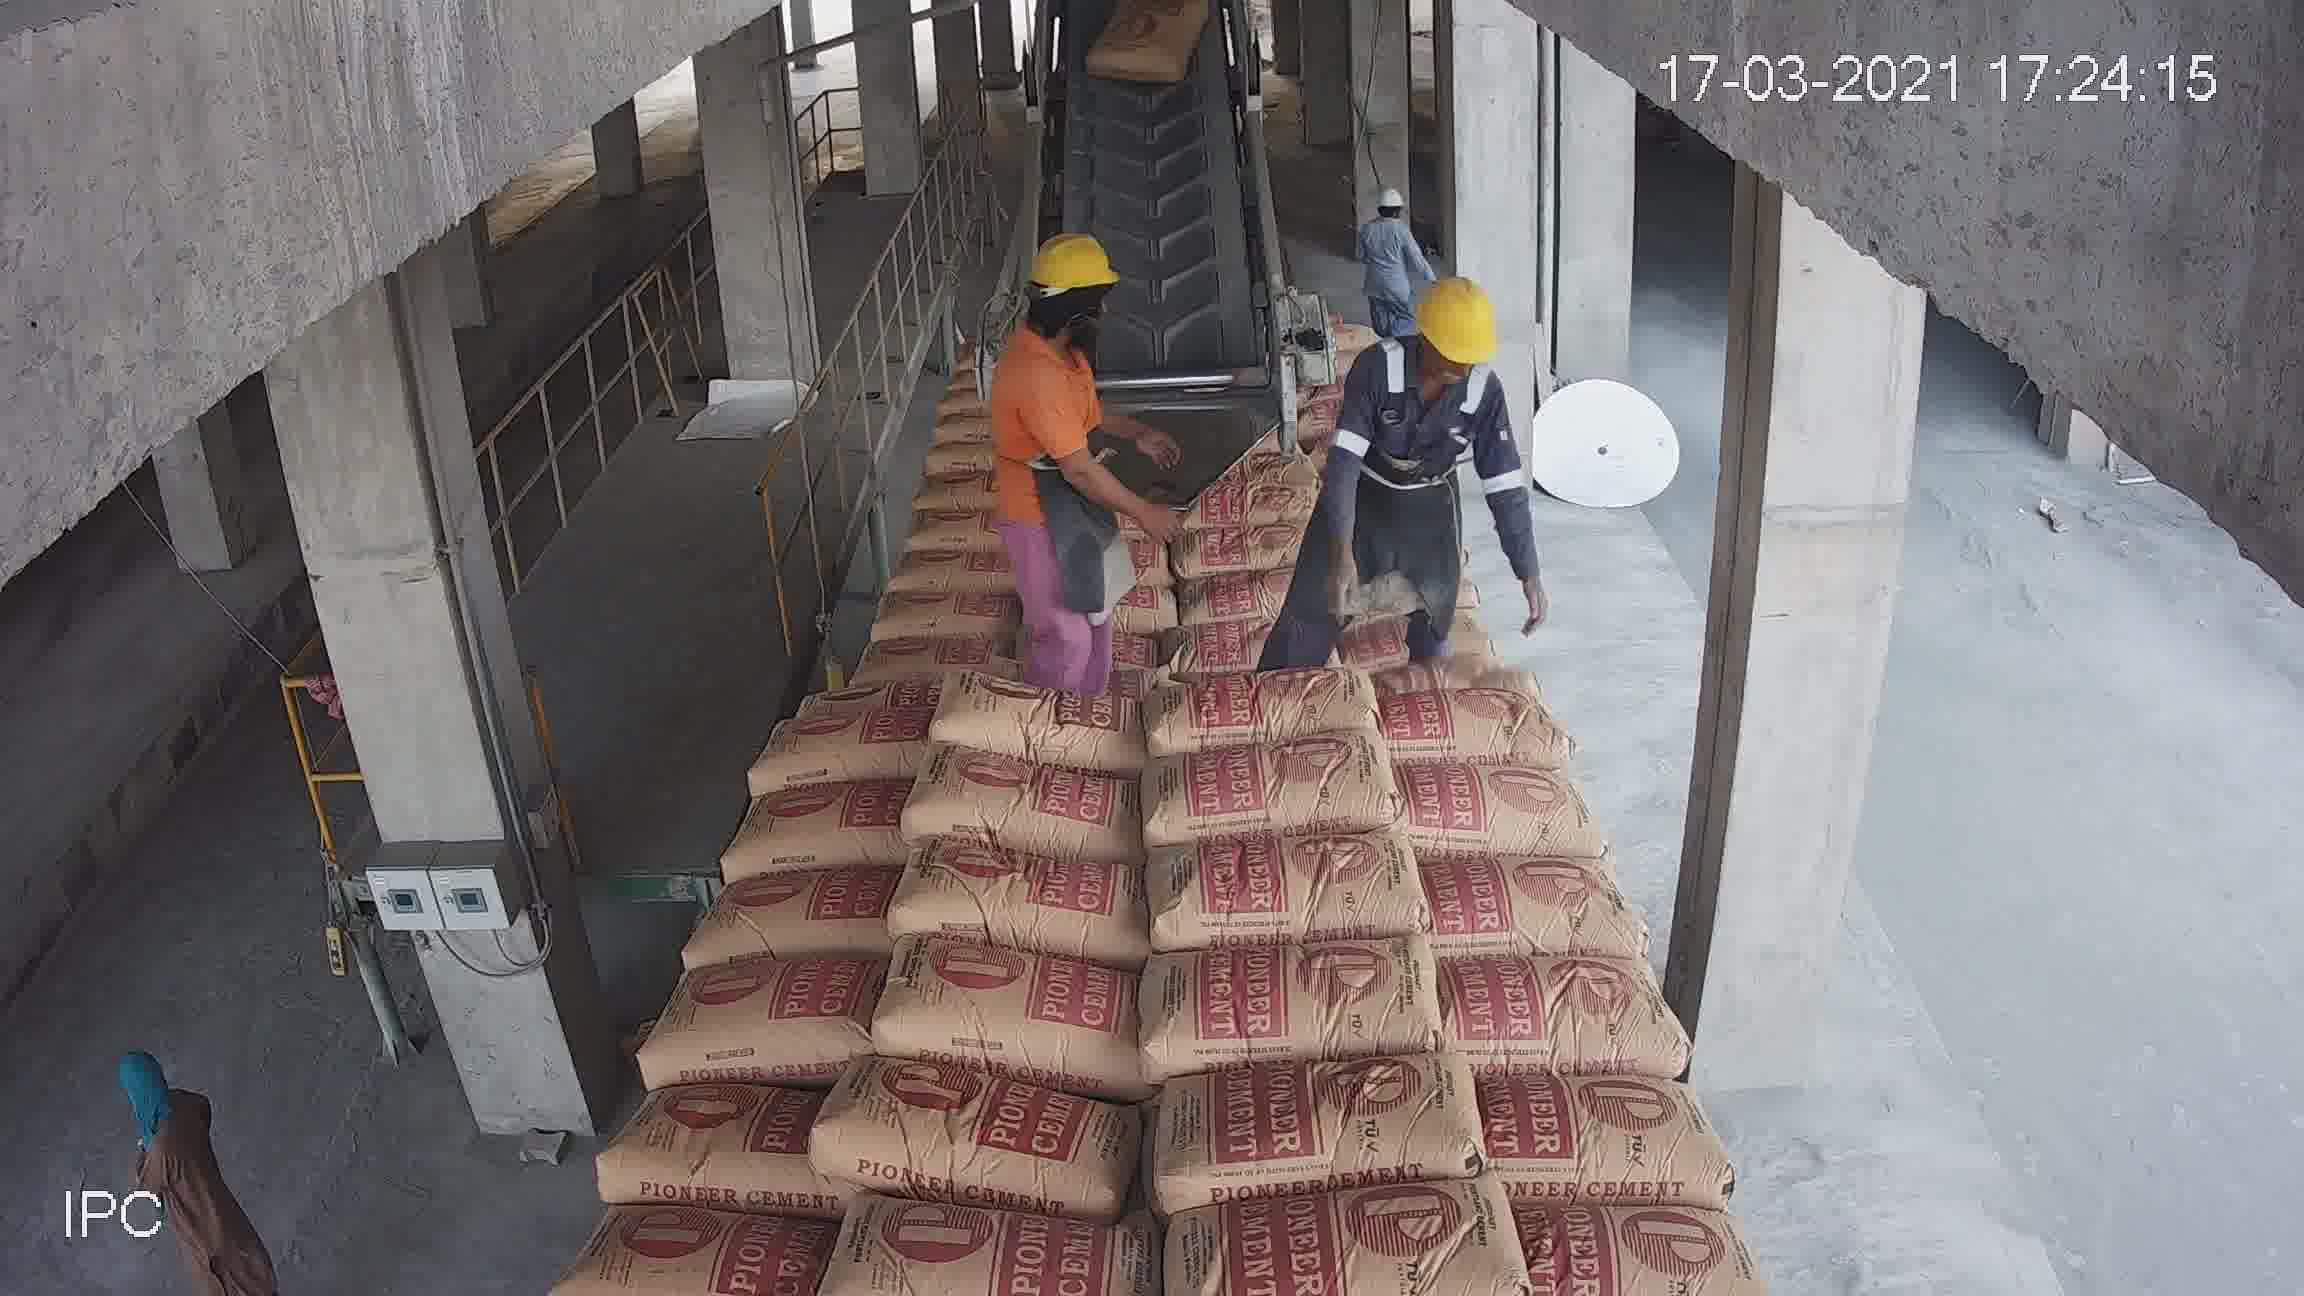bag: (1116, 250, 1188, 358), (1095, 13, 1188, 90)
bag_h: (820, 1052, 1174, 1204), (1111, 910, 1461, 1063), (1120, 1163, 1510, 1296), (1119, 1063, 1470, 1184), (861, 956, 1139, 1093), (1457, 1060, 1715, 1203), (1154, 831, 1442, 954), (755, 1203, 1135, 1296), (902, 753, 1173, 869), (1143, 731, 1404, 837), (1505, 1196, 1772, 1296), (877, 842, 1166, 934), (654, 961, 870, 1081), (574, 1078, 813, 1185), (1438, 847, 1647, 968), (1468, 953, 1719, 1048), (557, 1201, 824, 1290), (930, 668, 1161, 766), (1388, 745, 1600, 845), (1136, 658, 1396, 737), (949, 609, 1185, 688), (1378, 674, 1556, 775), (744, 711, 942, 793), (1165, 589, 1389, 658), (731, 794, 904, 880), (1136, 532, 1343, 601), (1377, 609, 1549, 692), (685, 883, 875, 953), (783, 641, 937, 718), (964, 521, 1166, 579), (779, 590, 957, 654), (812, 524, 970, 593), (1146, 449, 1321, 510), (1128, 505, 1355, 548), (964, 555, 1157, 601), (986, 470, 1146, 524), (1361, 565, 1506, 622), (1313, 516, 1502, 554), (839, 484, 973, 535), (1309, 407, 1424, 464), (1328, 475, 1495, 513), (1291, 383, 1424, 430), (1298, 362, 1427, 400), (923, 399, 1014, 443), (911, 426, 987, 478), (1298, 353, 1415, 381), (1302, 324, 1388, 354)
belt: (1043, 0, 1253, 267)
